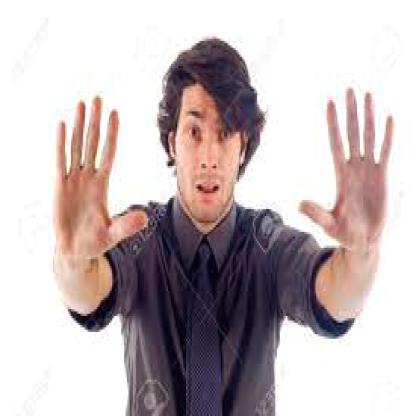Stop: (296, 90, 404, 262), (53, 98, 141, 274)
